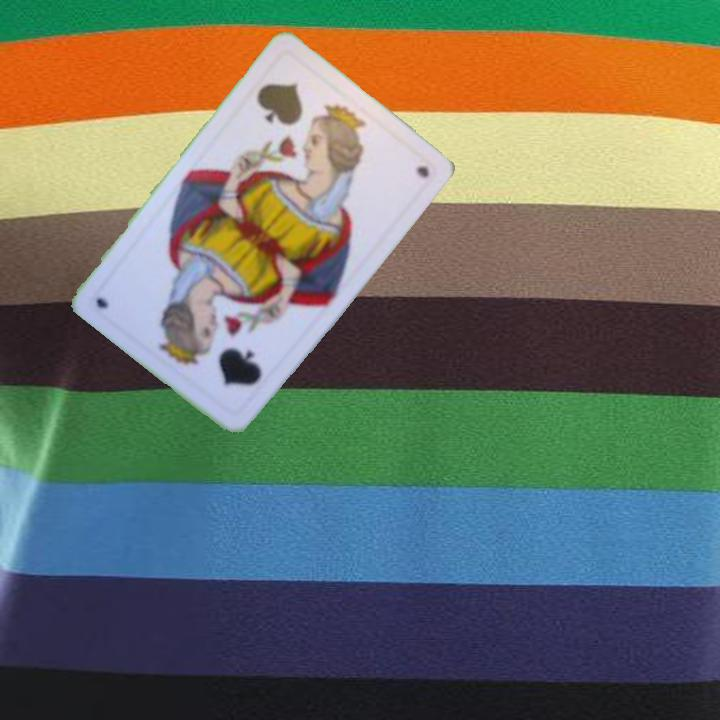s_q.png: (160, 292, 290, 419), (233, 49, 362, 176)
